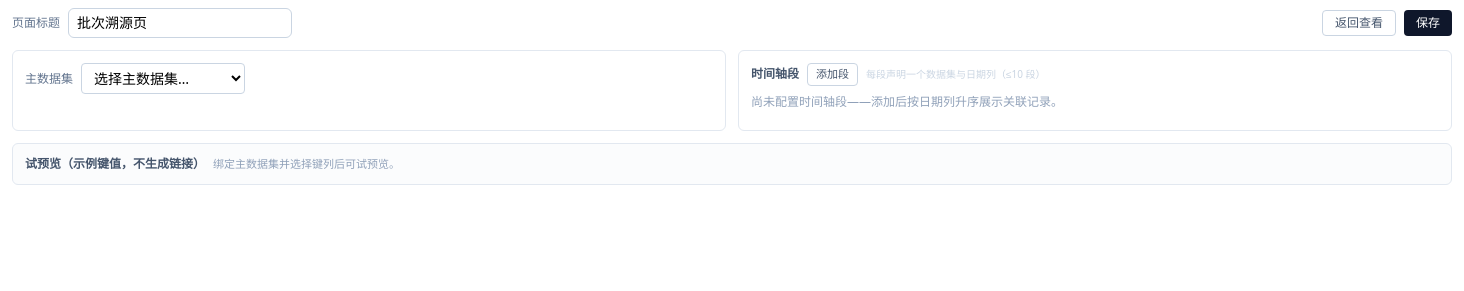
RecordViewEditor（构建器落形） › 草稿校验镜像零请求拦截：缺键列 → keyColumnRequired；未绑中间态允许保存
// 未绑数据集的最小空 spec：允许保存（中间态，PUT 发出）。
Click the button with test id "editor-recordview-save": (1428, 23) left=1404, top=10, right=1452, bottom=36
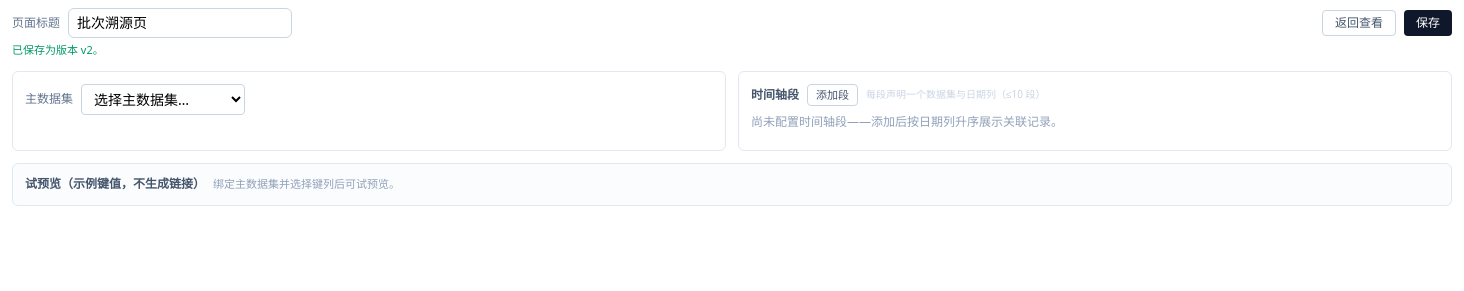
Result: the text "已保存为版本 v2。" is shown at left=12, top=42, right=104, bottom=57
// 绑定后未选键列：零请求拦截。
Select "批次集（20 行）" in the dropdown with test id "editor-recordview-dataset": (163, 99) left=81, top=84, right=245, bottom=114
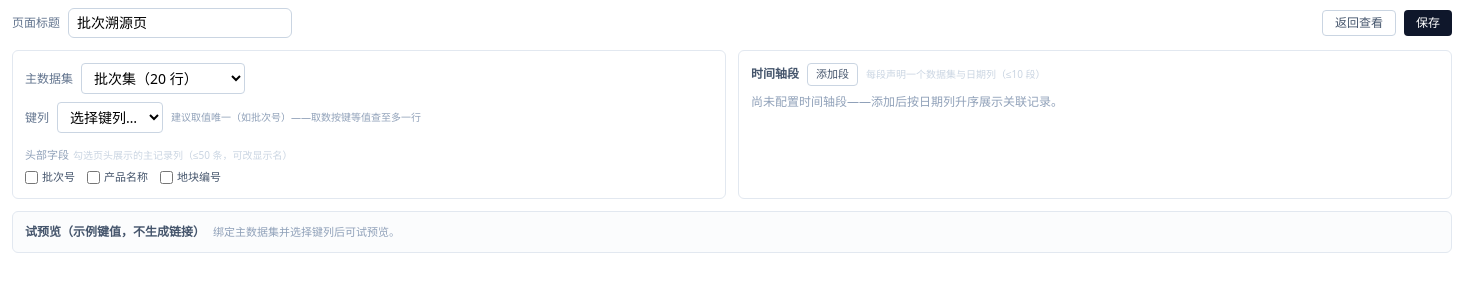
Click the button with test id "editor-recordview-save": (1428, 23) left=1404, top=10, right=1452, bottom=36
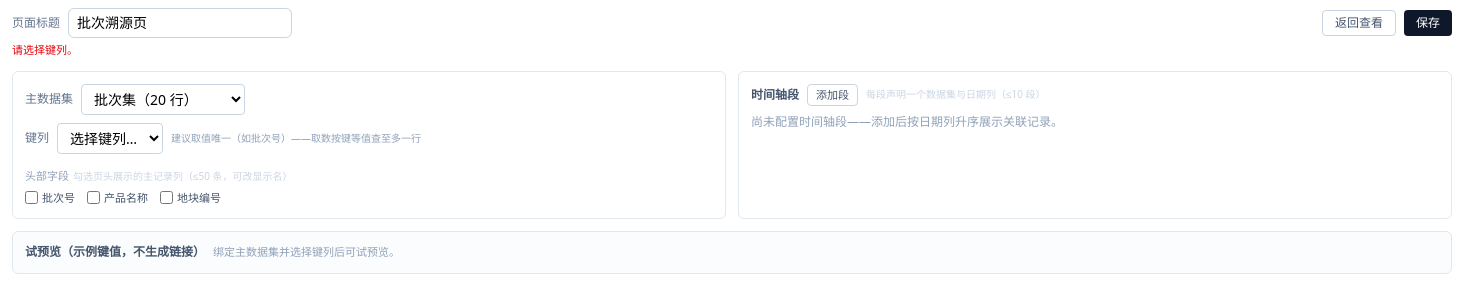
Result: the list item with test id "editor-recordview-error" is shown at left=12, top=42, right=78, bottom=57
